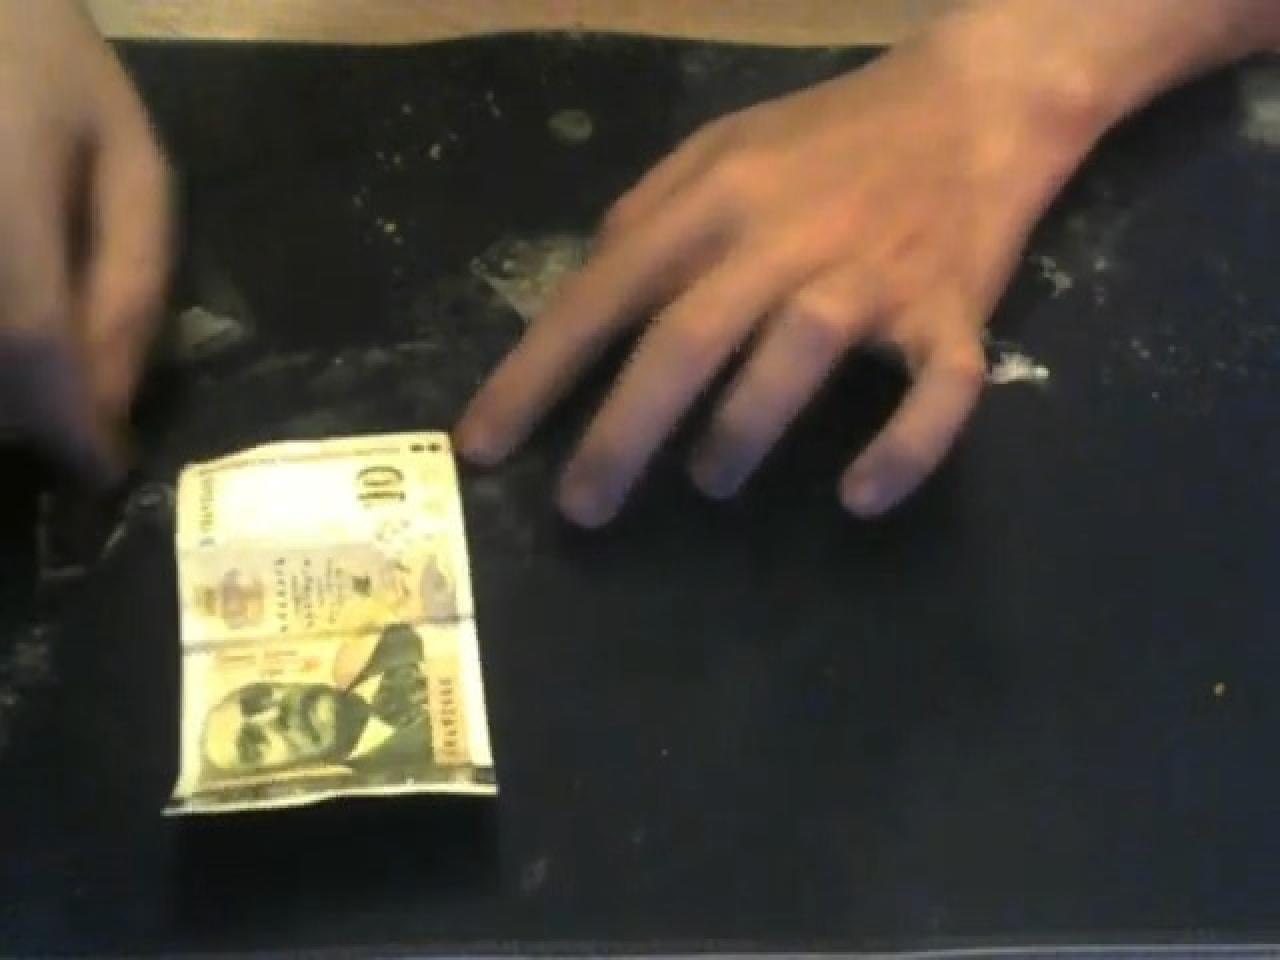10leva: (164, 432, 496, 819)
